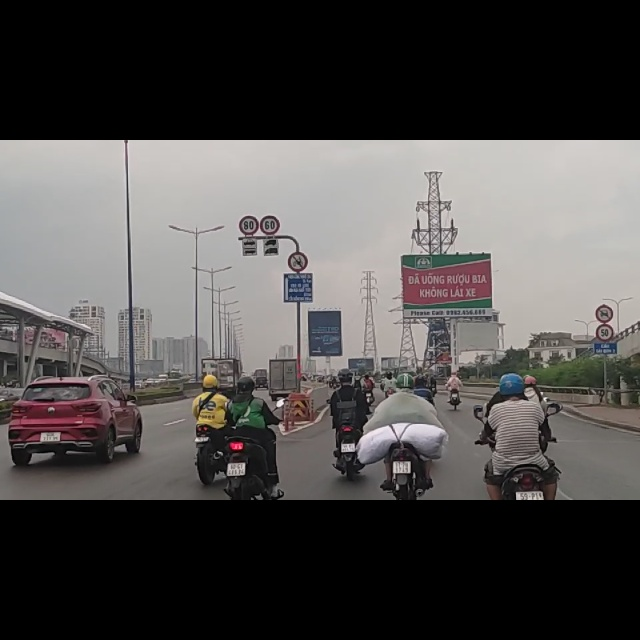bien_cam: (237, 132, 259, 168), (287, 199, 309, 232), (259, 134, 279, 169), (595, 288, 612, 322), (597, 329, 613, 360)
